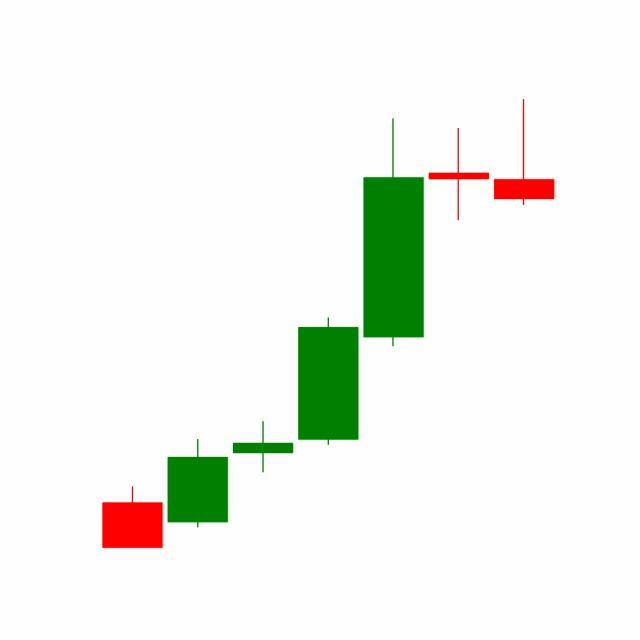Hikkake Pattern: (229, 100, 555, 479)
